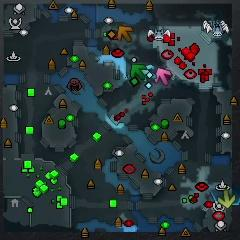x1: (155, 68, 172, 86)
x2: (218, 190, 236, 209)
x3: (141, 64, 157, 80)
x4: (130, 64, 146, 80)
x5: (117, 25, 133, 43)
